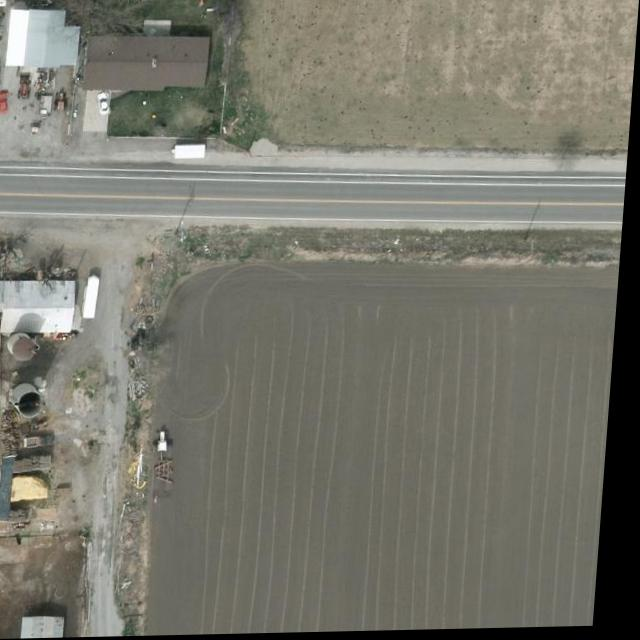vehicle: (98, 91, 114, 117), (0, 92, 13, 114)
